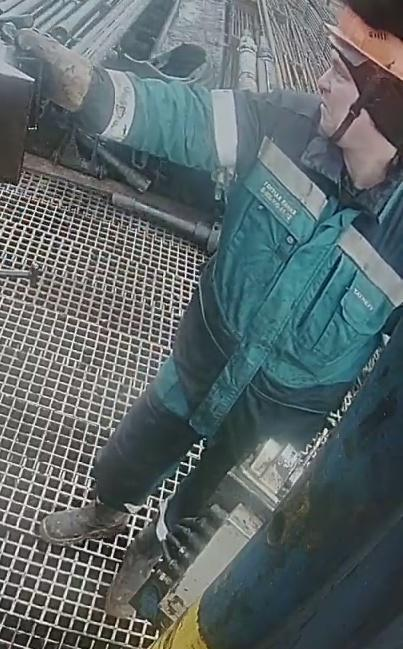gloves: (0, 22, 113, 129)
helmet: (322, 0, 403, 84)
vest: (160, 89, 402, 438)
